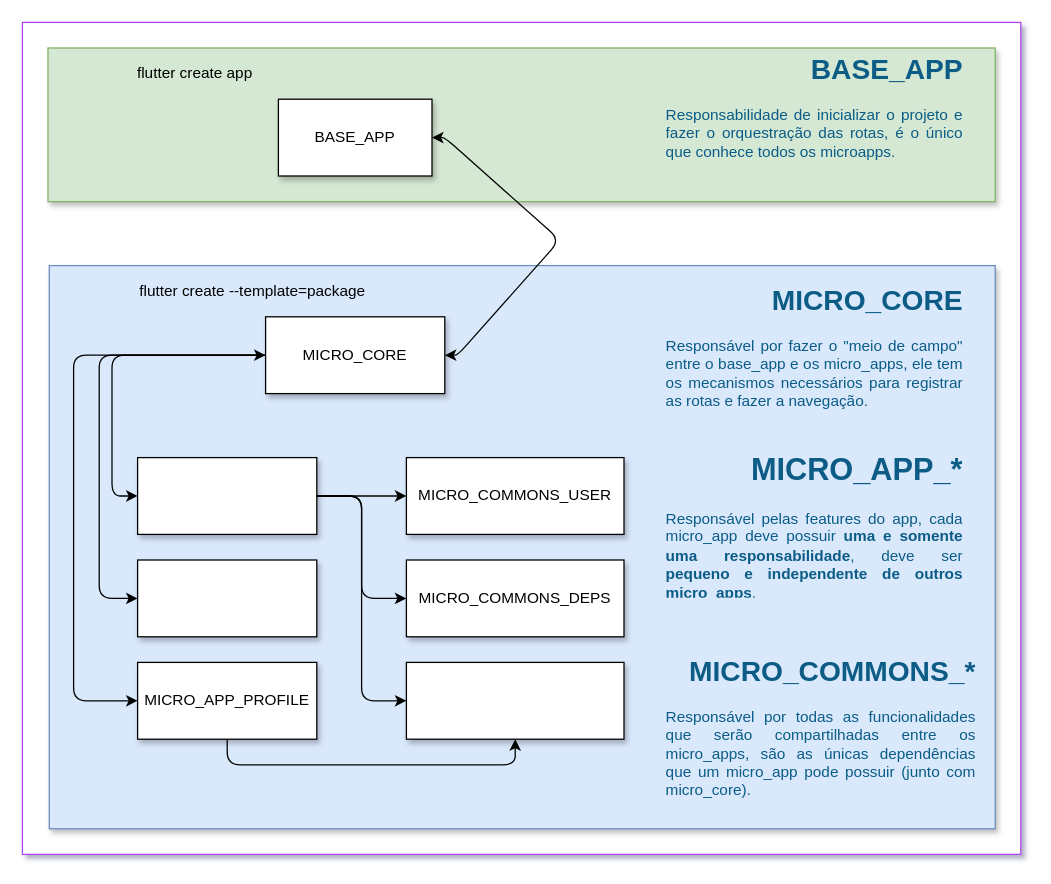
Image size: 1051x884. Some labels were removed from this diagram. Each missing label, with the centre of its shape:
MICRO_APP_HOME: the point at 227,600
MICRO_APP_LOGIN: the point at 227,497
MICRO_COMMONS_ DESIGN_SYSTEM: the point at 516,702
